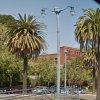Palm tree: (6, 10, 46, 93)
